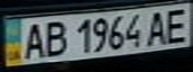1: (69, 16, 93, 54)
4: (124, 10, 148, 48)
6: (106, 12, 127, 51)
9: (90, 15, 112, 53)
A: (18, 20, 48, 60), (145, 8, 172, 46)
B: (39, 18, 69, 57)
E: (160, 6, 193, 45)
